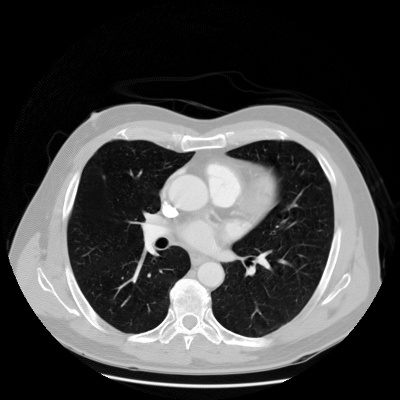PN: (100, 174, 106, 180)
